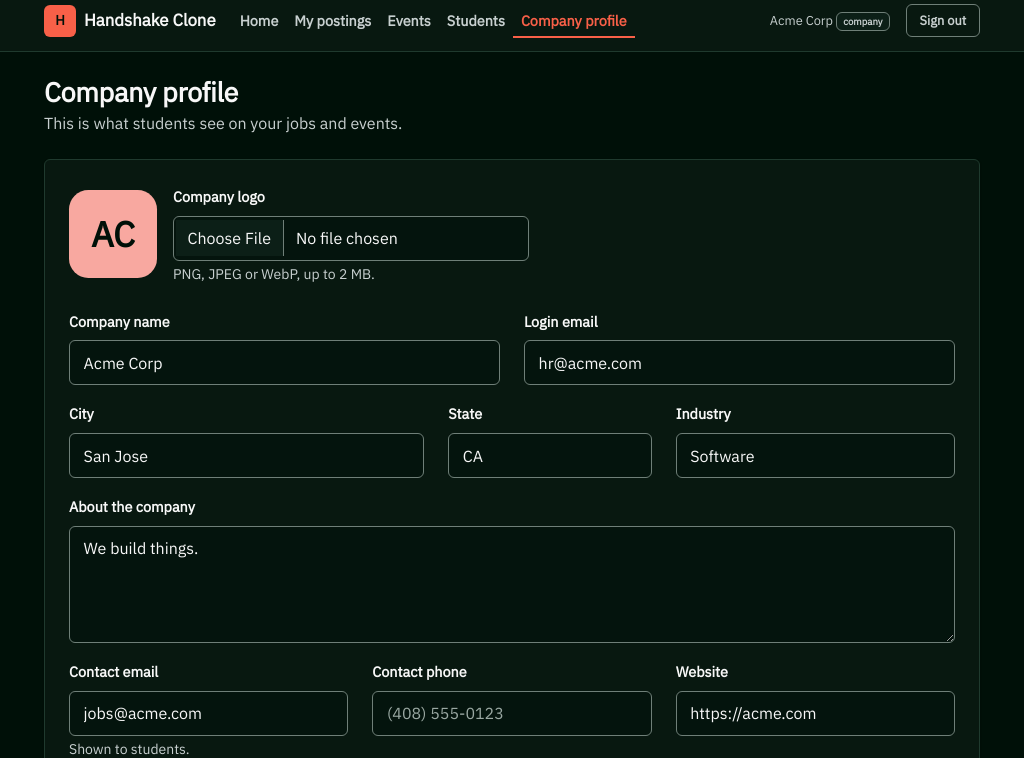
Test: Company profile › loads, saves with blanks cleared, and updates the top bar
This screenshot has width=1024, height=758.
Replace the text in the field labelled "Company name" with "Acme Inc". click: (284,363)
box: [69,340,500,386]
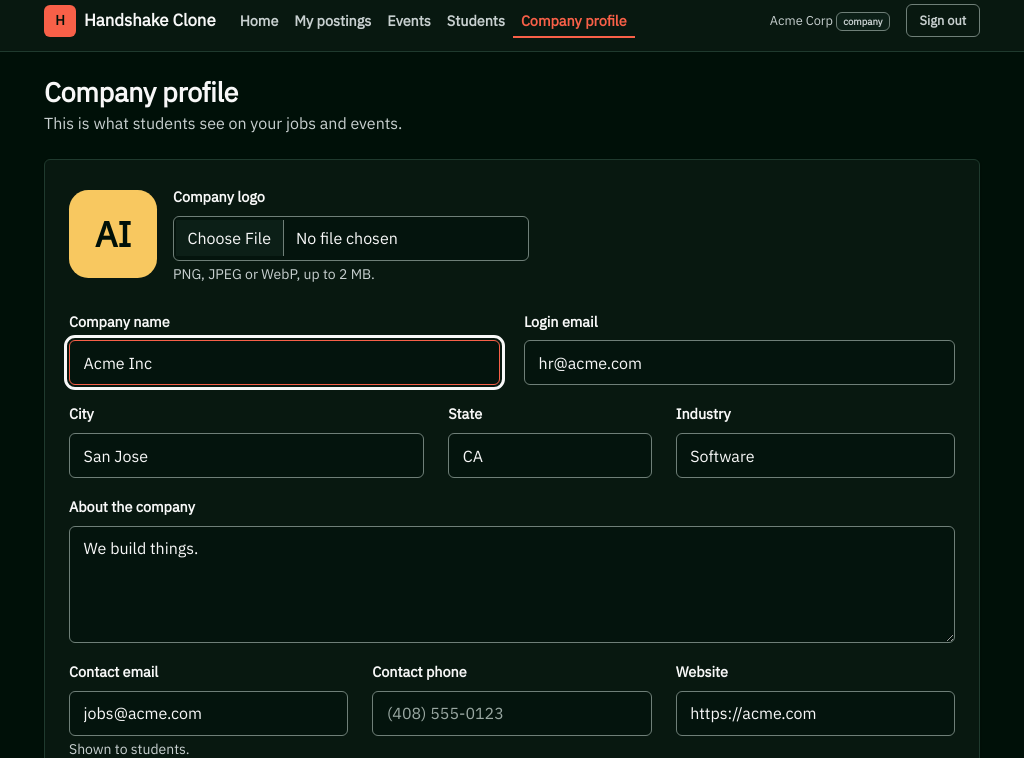
Clear the field labelled "Website". click: (815,713)
box: [676,691,955,736]
(page scrolled)
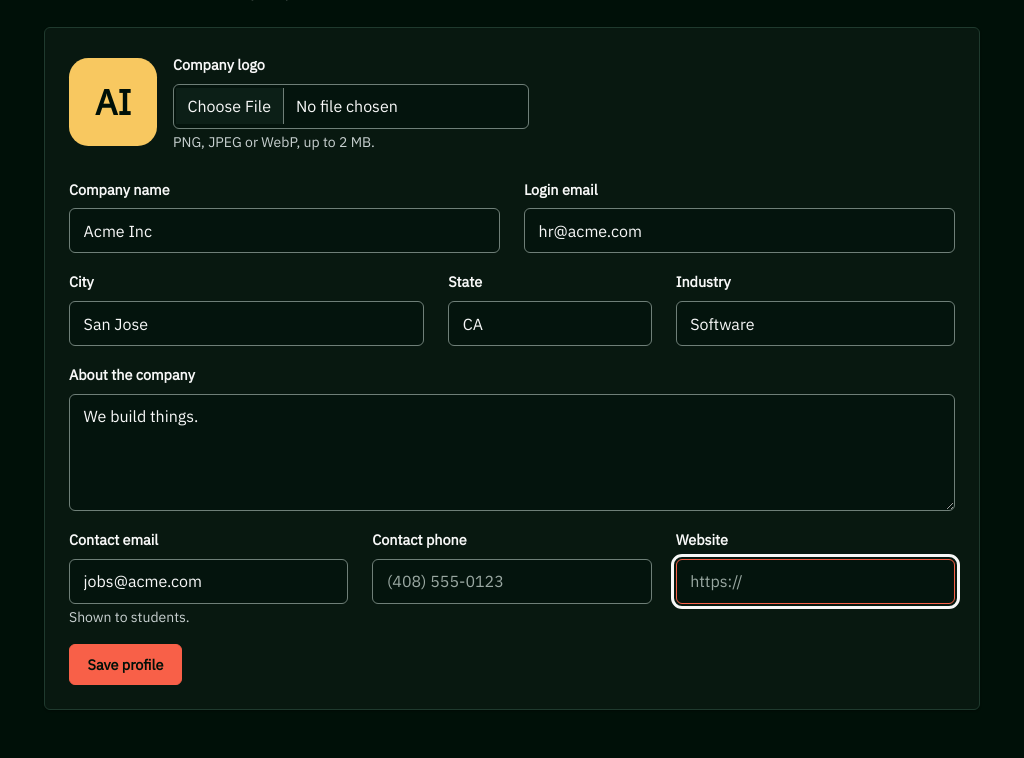
Click the button "Save profile". click: (125,664)
box: [69,644,182,685]
(page scrolled)
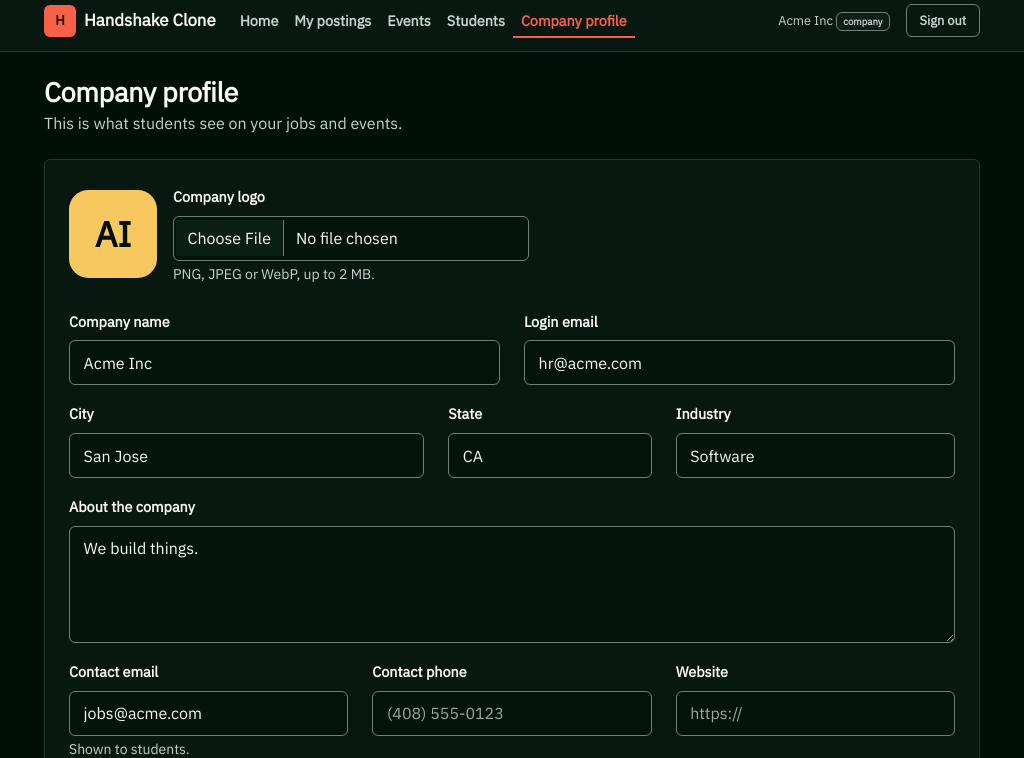
Check: the text "Acme Inc" is shown, box [778,12,833,29]
